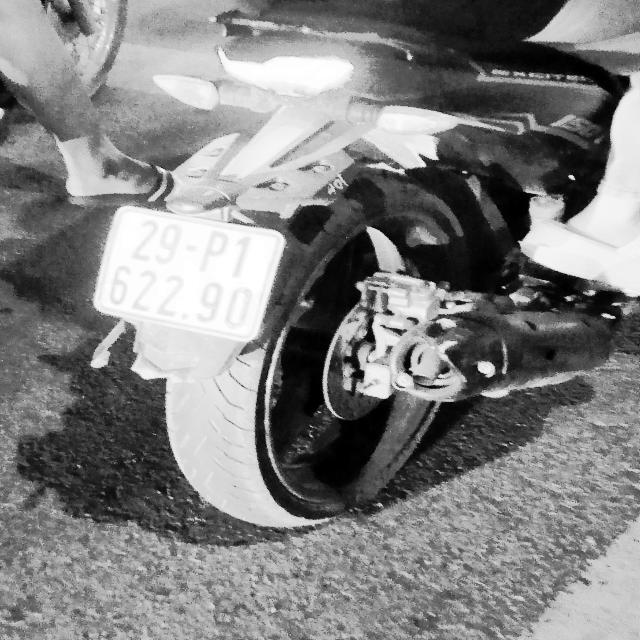license_plate: (97, 206, 284, 339)
